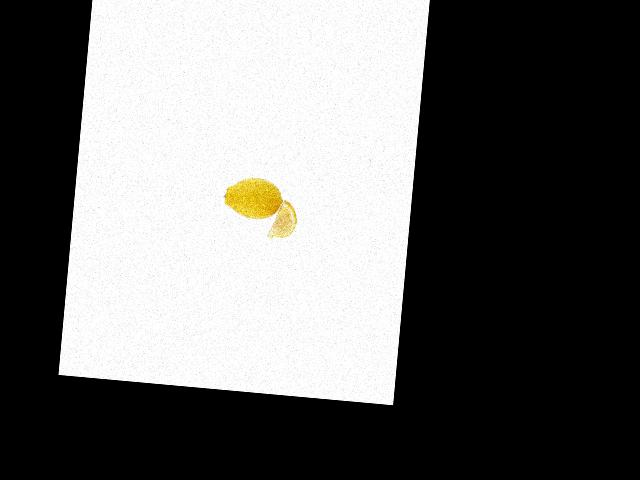lemon: (221, 173, 287, 224)
